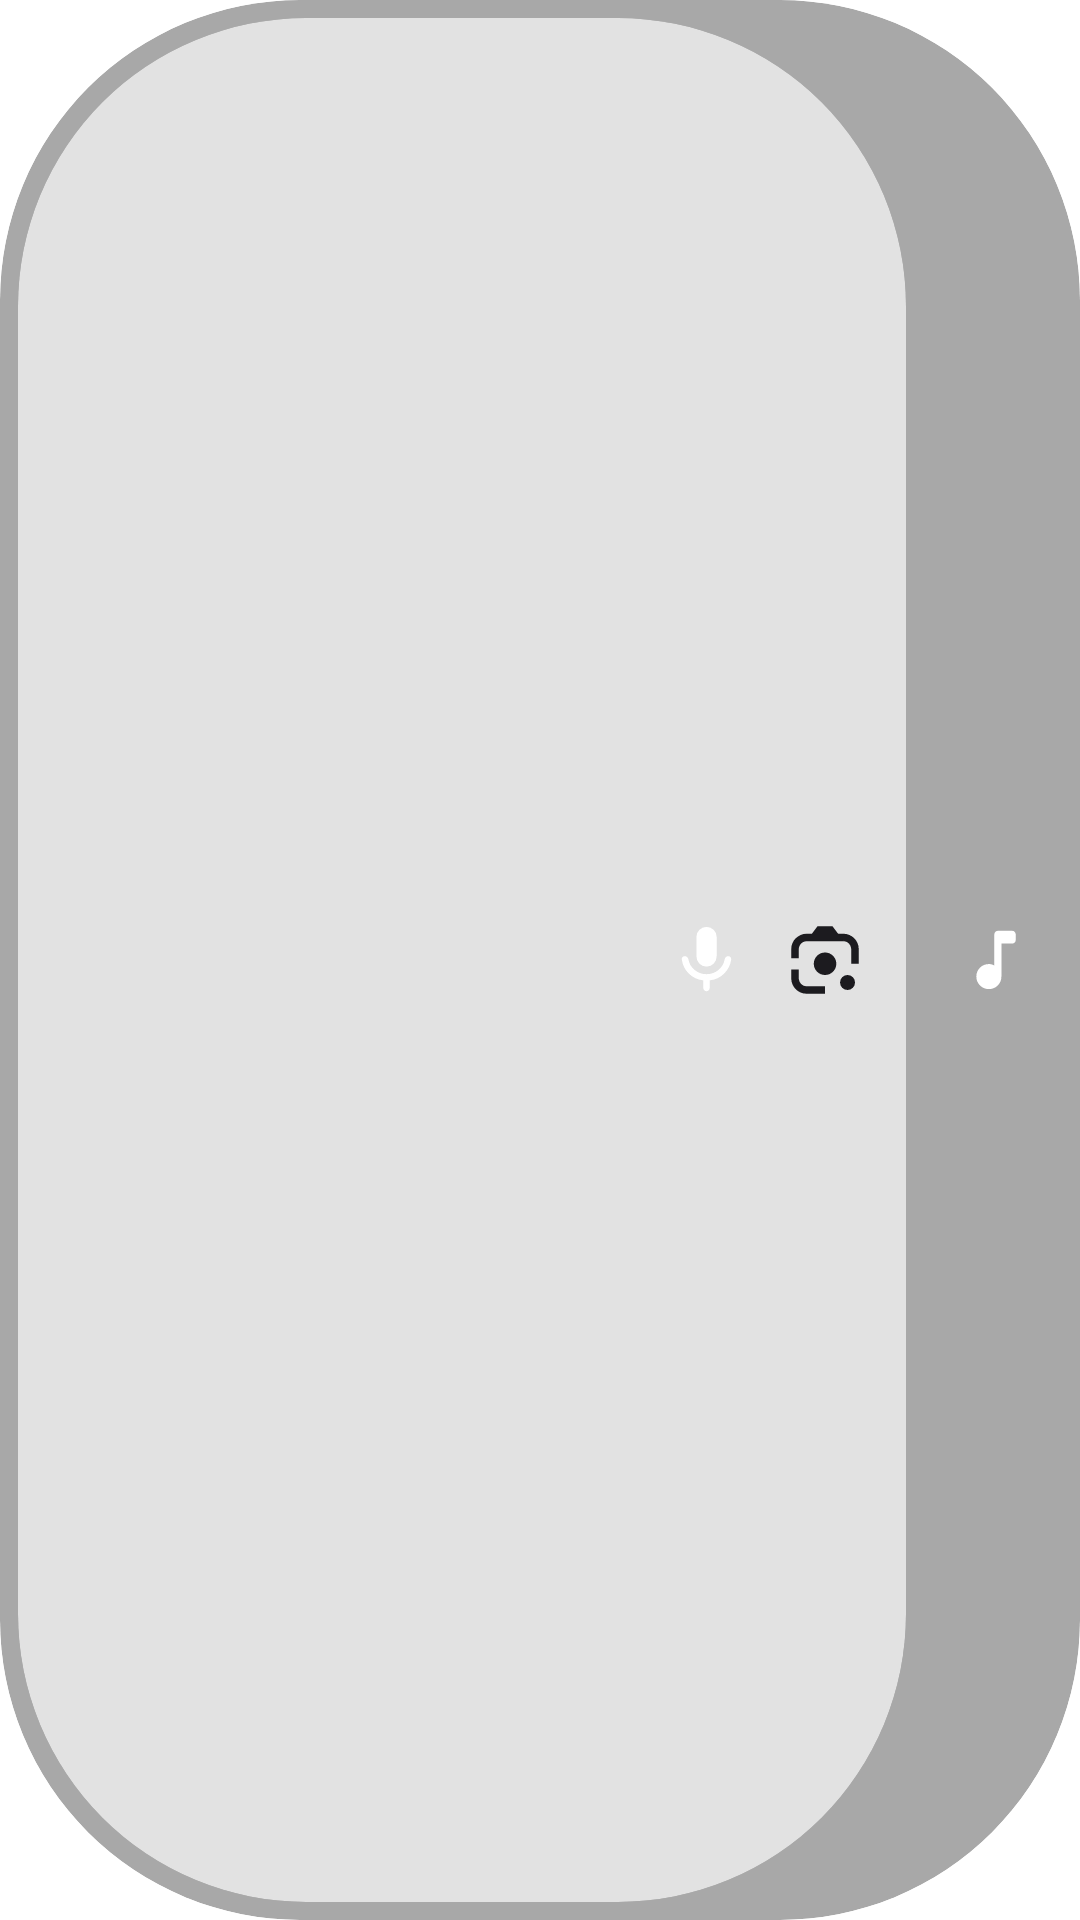

Screen size 1080 x 1920. Icon name, then its box in pixels as box=[x1, y1, x2, y2]:
Voice Search Icon: box=[682, 927, 731, 991]
